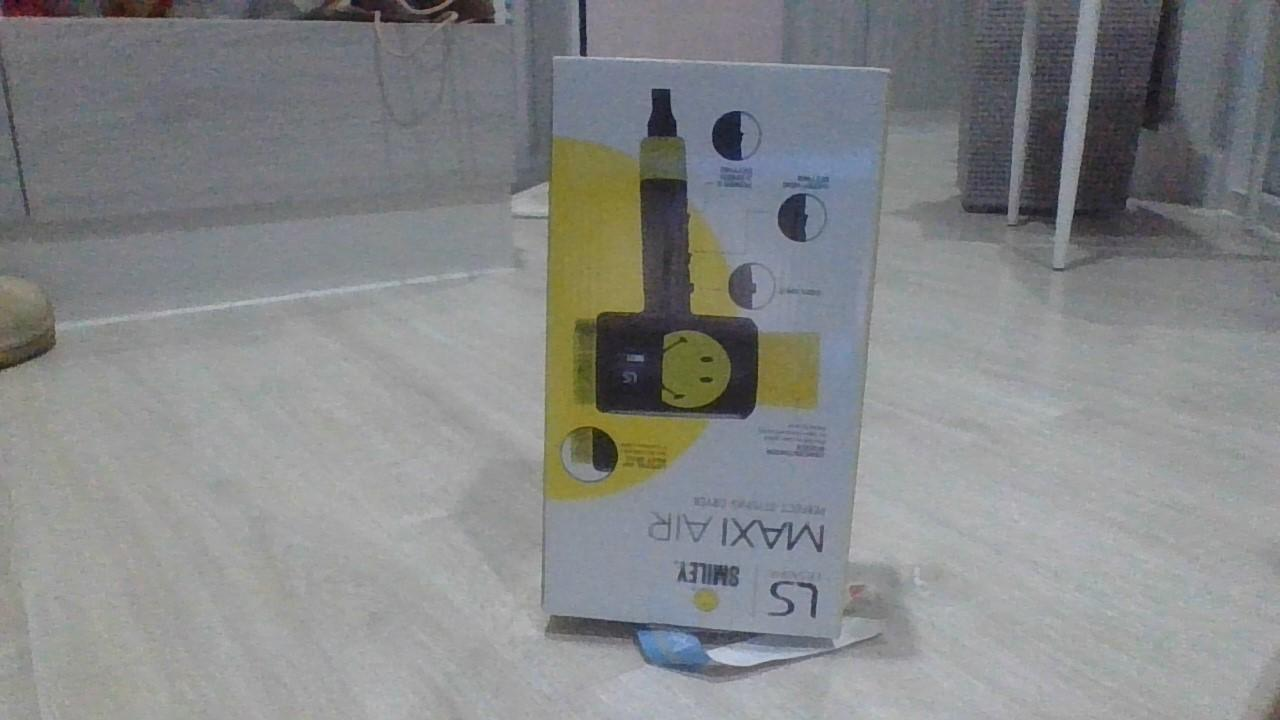Dryer: (536, 50, 894, 654)
